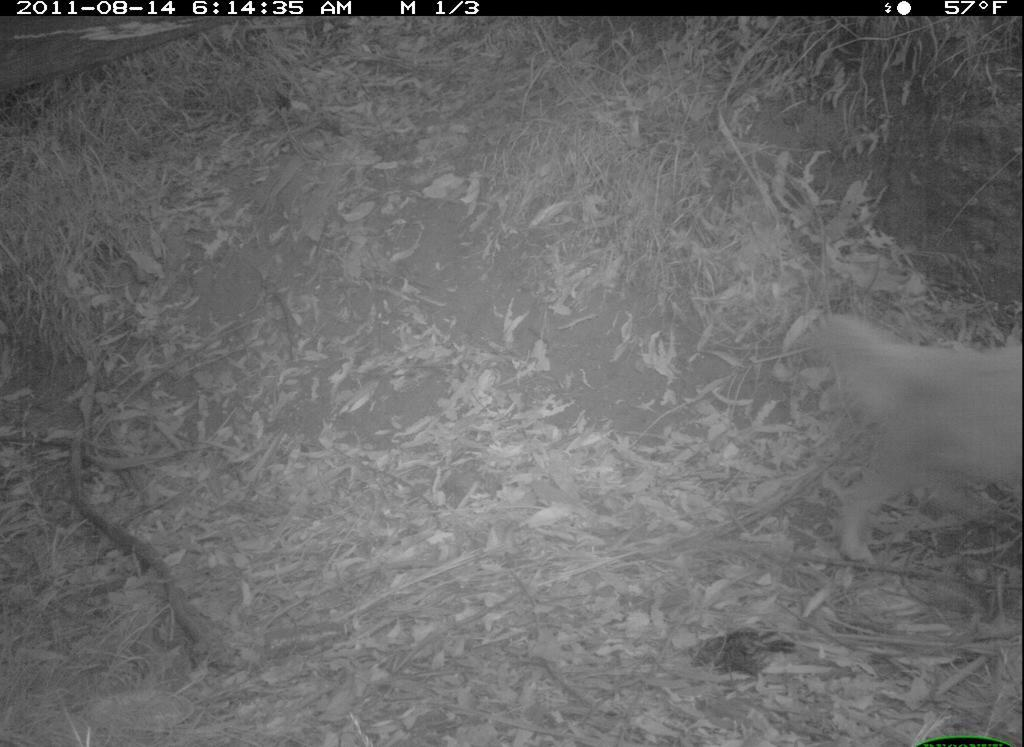dog: (795, 287, 1023, 584)
